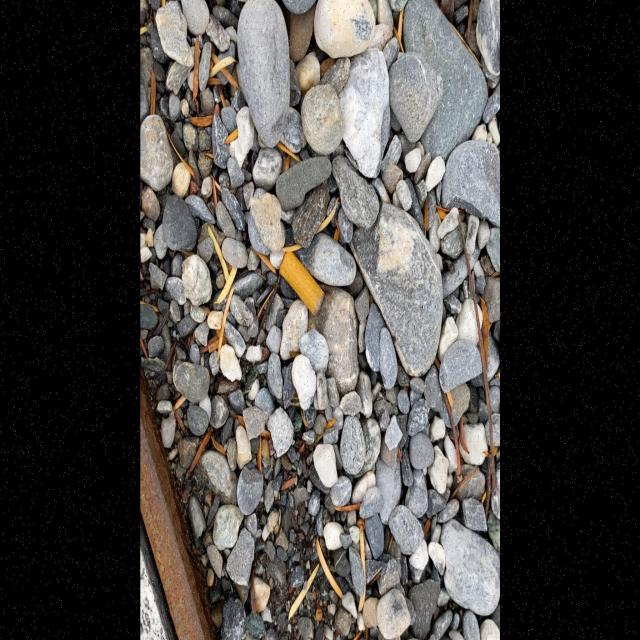other waste: (278, 249, 325, 317)
